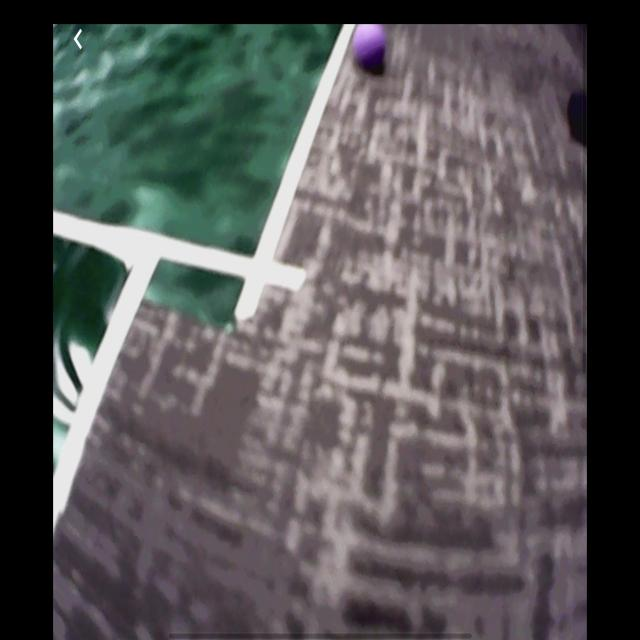ball: (353, 23, 388, 75)
